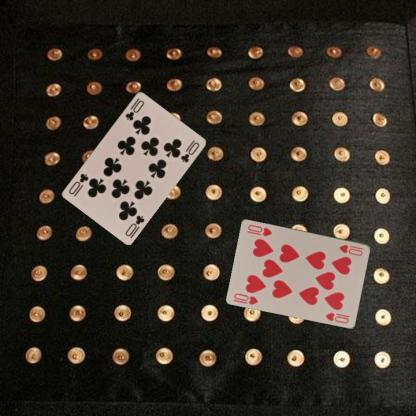10c: (122, 212, 146, 239), (122, 96, 146, 122)
10h: (232, 290, 260, 306), (337, 242, 364, 257)
